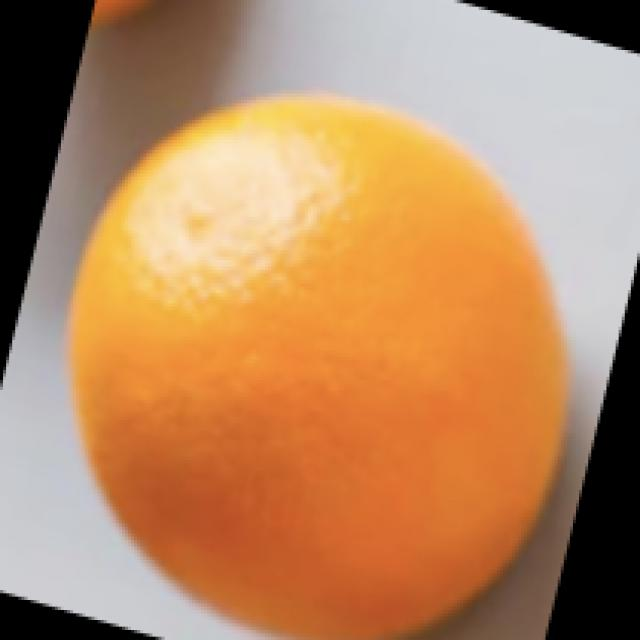fresh: (60, 78, 572, 639)
